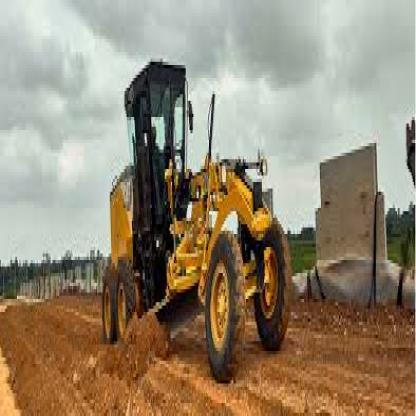bull_dozer/loader/grader: (69, 42, 312, 387)
